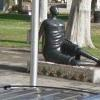Statue: (34, 2, 88, 73)
